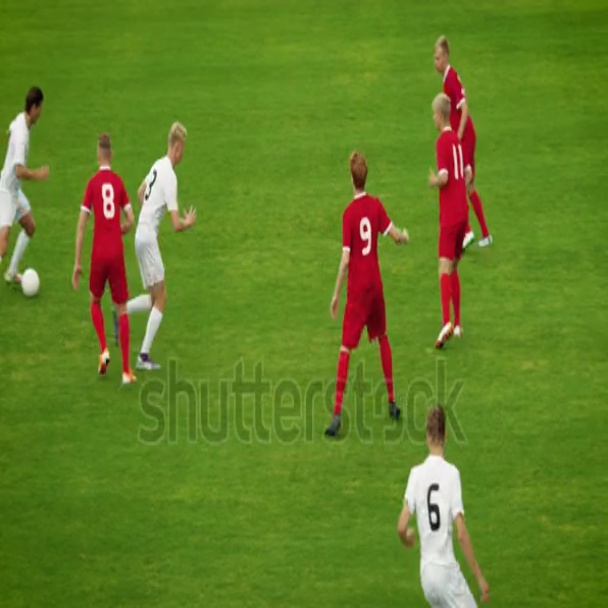ball: (21, 268, 43, 301)
